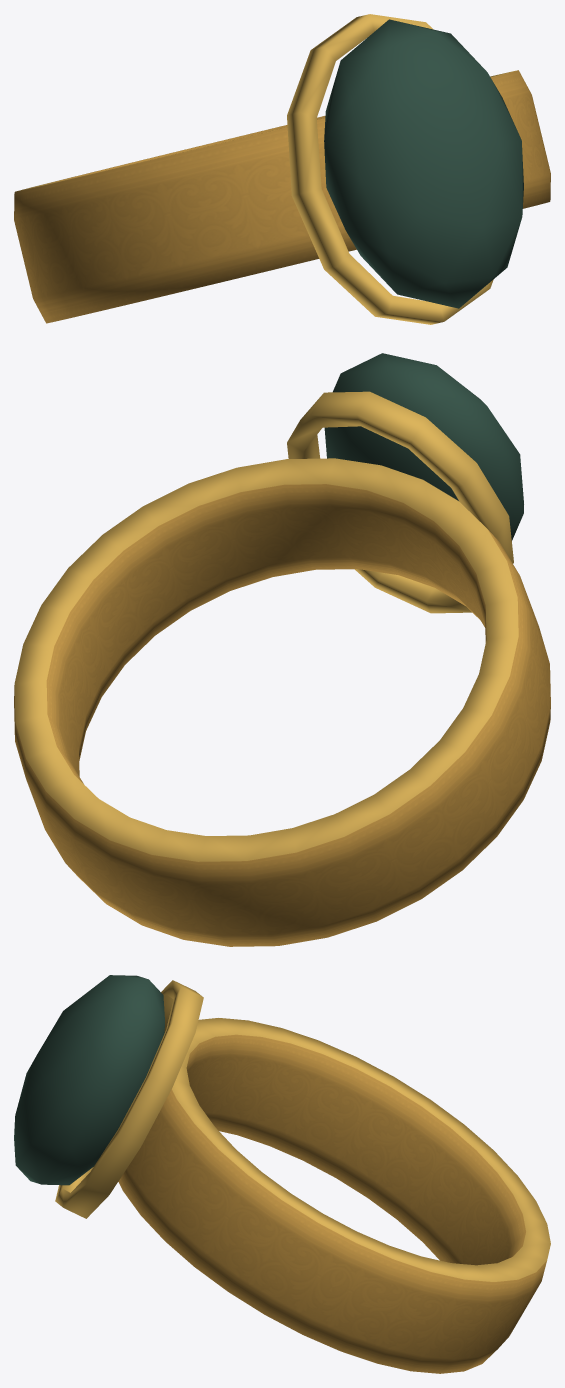
The model's file is item_6ring13.glb.
The picture shows the model from 3 angles, top to bottom: view 1: azimuth 30°, elevation 25°; view 2: azimuth 150°, elevation 25°; view 3: azimuth 270°, elevation 25°; orthographic projection. The views are drawn at different scales.
Parts seen in each view (by area): view 1: jewellery_6ring13; view 2: jewellery_6ring13; view 3: jewellery_6ring13.
Part boxes in pixels (box(x1,y1,x2,y2)): jewellery_6ring13: box(14, 14, 550, 324); jewellery_6ring13: box(14, 353, 550, 946); jewellery_6ring13: box(14, 975, 550, 1373).
Bounding box in the file's own units: 0.79 × 0.6856 × 0.9368.
3 materials, 1 textured.
